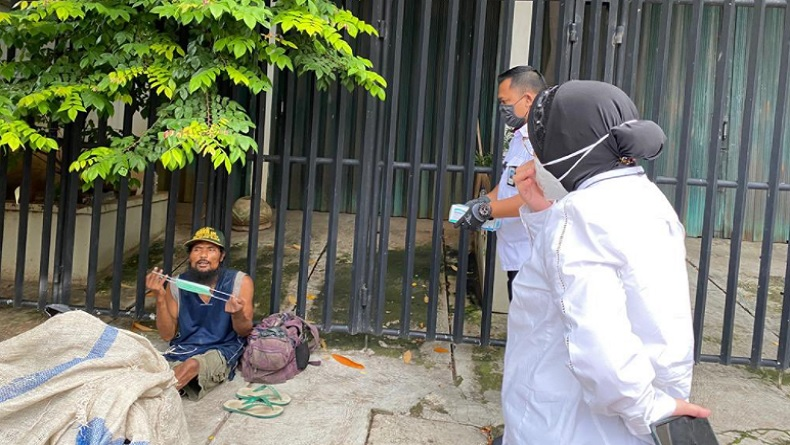gelandangan: (1, 220, 319, 445)
